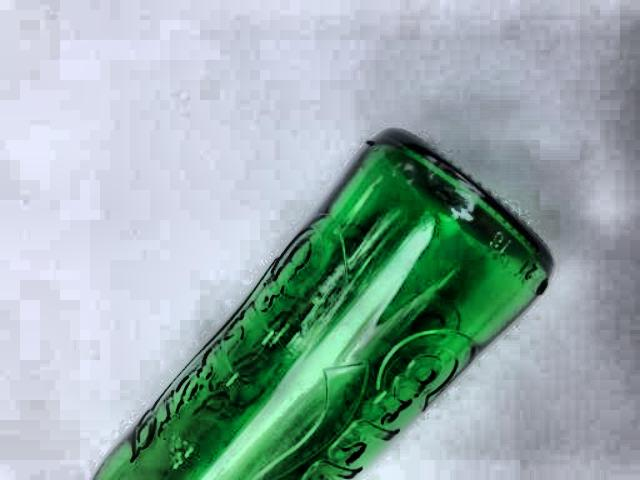Bottles: (74, 118, 568, 480)
